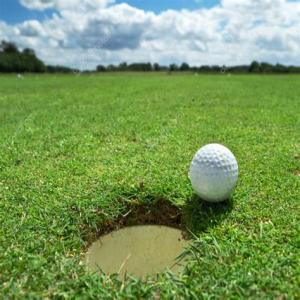Golf: (190, 140, 241, 204)
